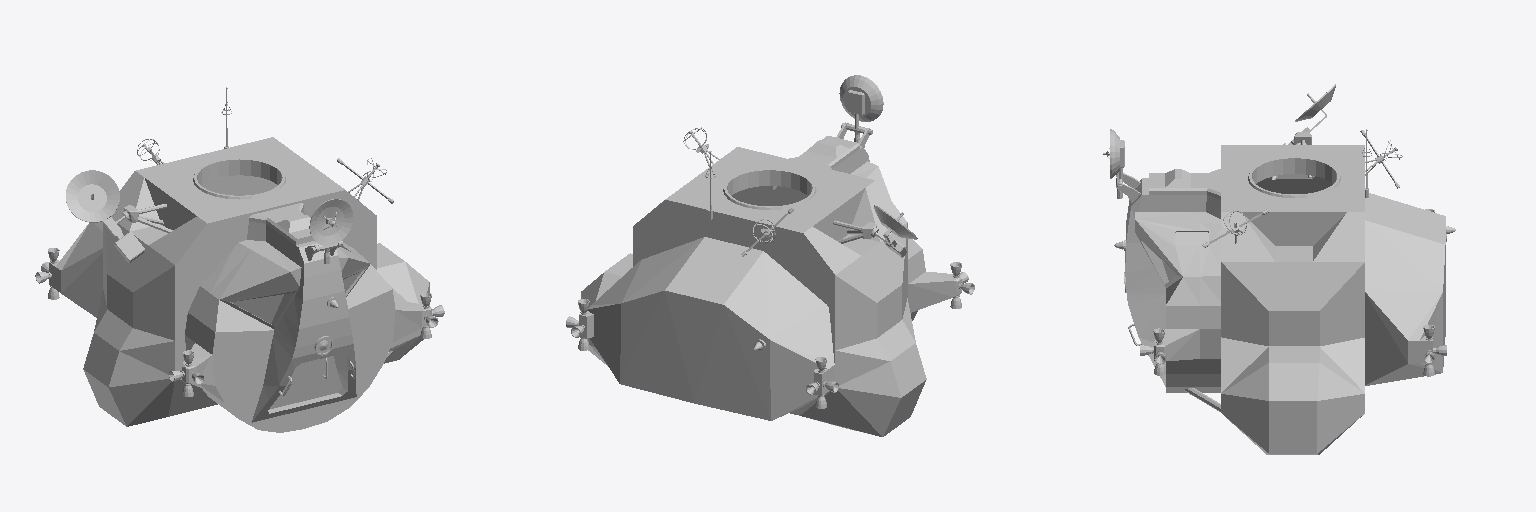
The model's file is LEM_AscentStage_ReadyForAO.obj.
The picture shows the model from 3 angles: view 1: azimuth 30°, elevation 25°; view 2: azimuth 150°, elevation 25°; view 3: azimuth 270°, elevation 25°; orthographic projection.
Visible parts, largest first — view 1: LEM_Ascent_Cockpit6; view 2: LEM_Ascent_Cockpit6; view 3: LEM_Ascent_Cockpit6.
Part boxes in pixels (bbox=[...]): LEM_Ascent_Cockpit6: bbox=[35, 87, 444, 432]; LEM_Ascent_Cockpit6: bbox=[566, 75, 974, 436]; LEM_Ascent_Cockpit6: bbox=[1103, 84, 1455, 454].
Size of the model in its own units: 289 by 219 by 263.